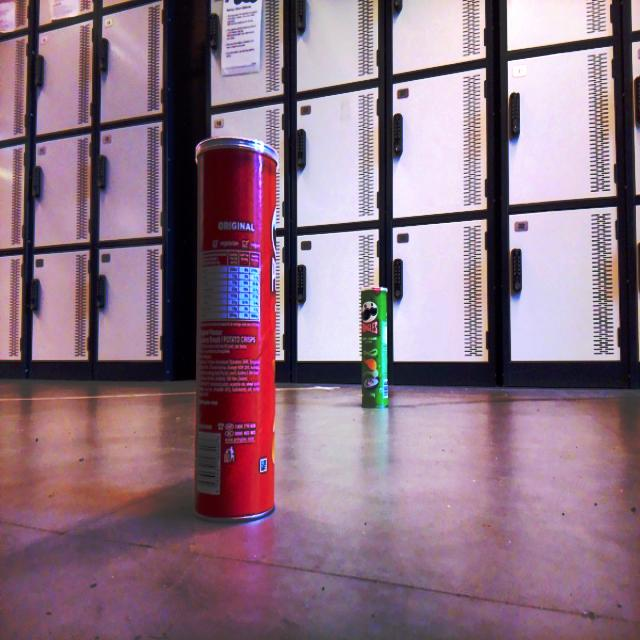greenpringles: (344, 278, 403, 422)
redpringles: (170, 110, 309, 539)
